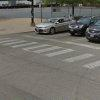Crosswalk: (5, 32, 97, 71)
